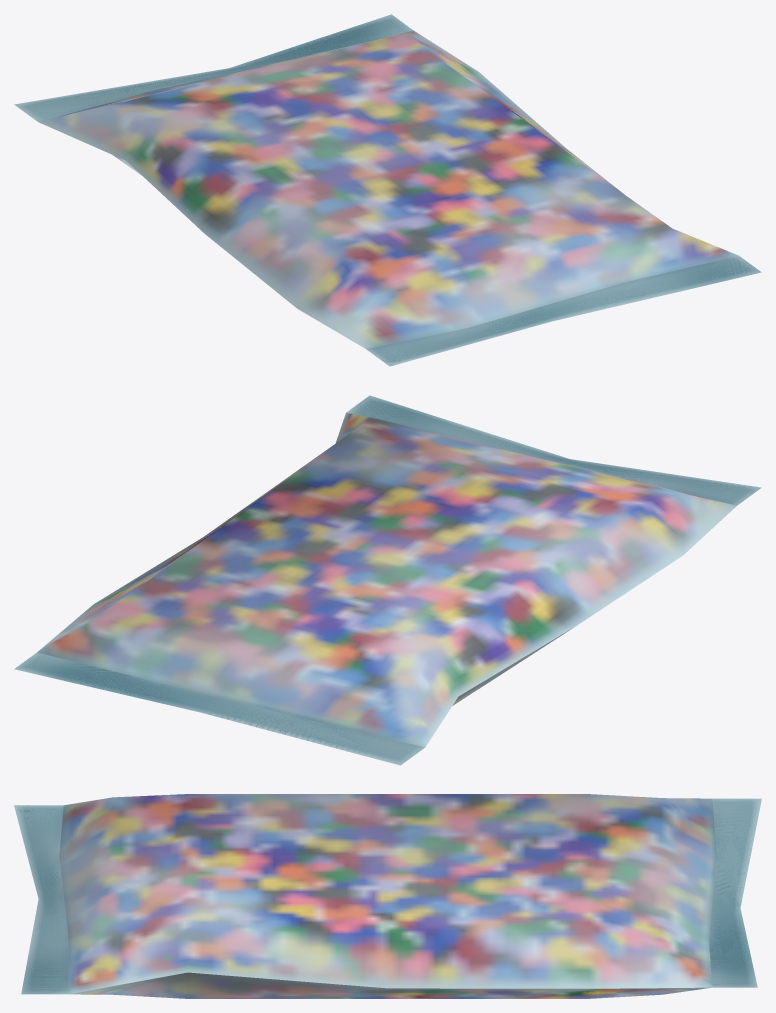
File: jsf_BalloonPack_Set.fbx
3 views of the same model, one above another, from view 1: azimuth 30°, elevation 25°; view 2: azimuth 150°, elevation 25°; view 3: azimuth 270°, elevation 25° (orthographic). The views are drawn at different scales.
Parts seen in each view (by area): view 1: jsf_BalloonPack_Set; view 2: jsf_BalloonPack_Set; view 3: jsf_BalloonPack_Set.
Part boxes in pixels (box(x1,y1,x2,y2)): jsf_BalloonPack_Set: box(14, 14, 761, 366); jsf_BalloonPack_Set: box(14, 395, 761, 765); jsf_BalloonPack_Set: box(14, 794, 761, 998).
Size of the model in its own units: 18.31 by 2.84 by 29.57.
